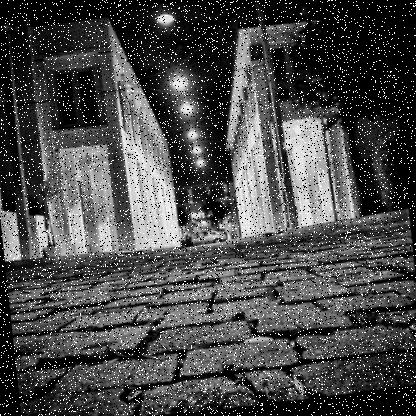Car: (187, 224, 227, 242)
